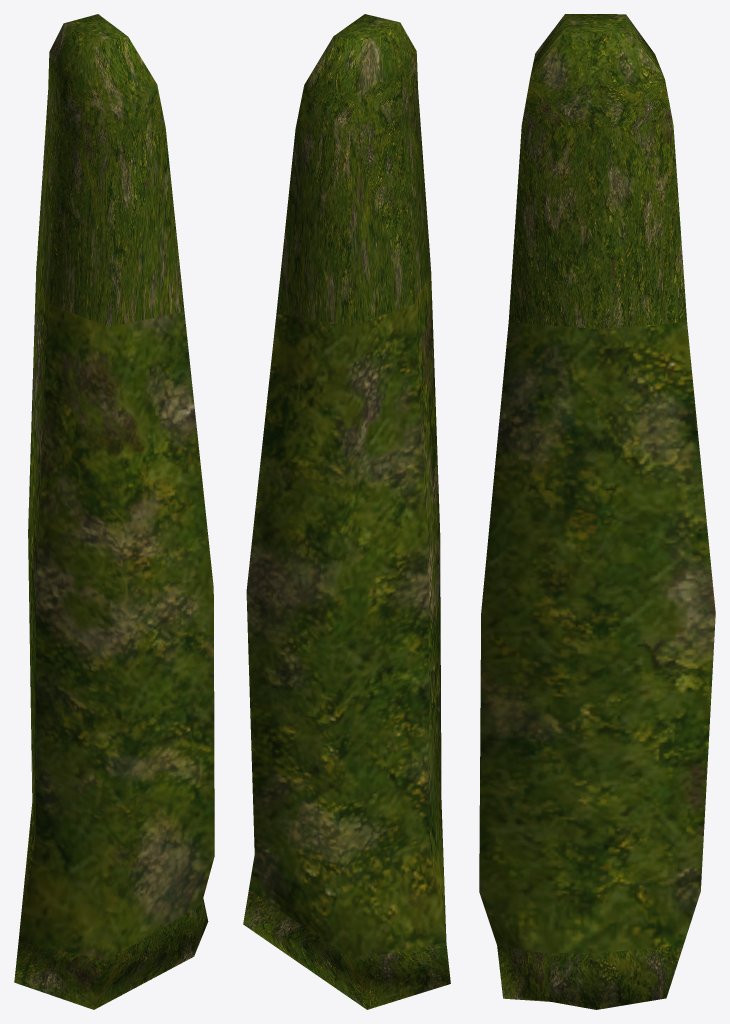
File: OVERHILL_A_01_OH_B_ROCK_BRIDGE.fbx
3 views of the same model, side by side, from view 1: azimuth 30°, elevation 25°; view 2: azimuth 150°, elevation 25°; view 3: azimuth 270°, elevation 25° (orthographic). The views are drawn at different scales.
Visible parts, largest first — view 1: OVERHILL_A_01_OH_B_ROCK_BRIDGE; view 2: OVERHILL_A_01_OH_B_ROCK_BRIDGE; view 3: OVERHILL_A_01_OH_B_ROCK_BRIDGE.
Boxes of the visible parts, x1=… form: OVERHILL_A_01_OH_B_ROCK_BRIDGE: x1=14, y1=14, x2=214, y2=1009; OVERHILL_A_01_OH_B_ROCK_BRIDGE: x1=243, y1=14, x2=450, y2=1009; OVERHILL_A_01_OH_B_ROCK_BRIDGE: x1=479, y1=14, x2=715, y2=1009.
Size of the model in its own units: 12144 by 62156 by 13471.
1 material, 1 textured.
